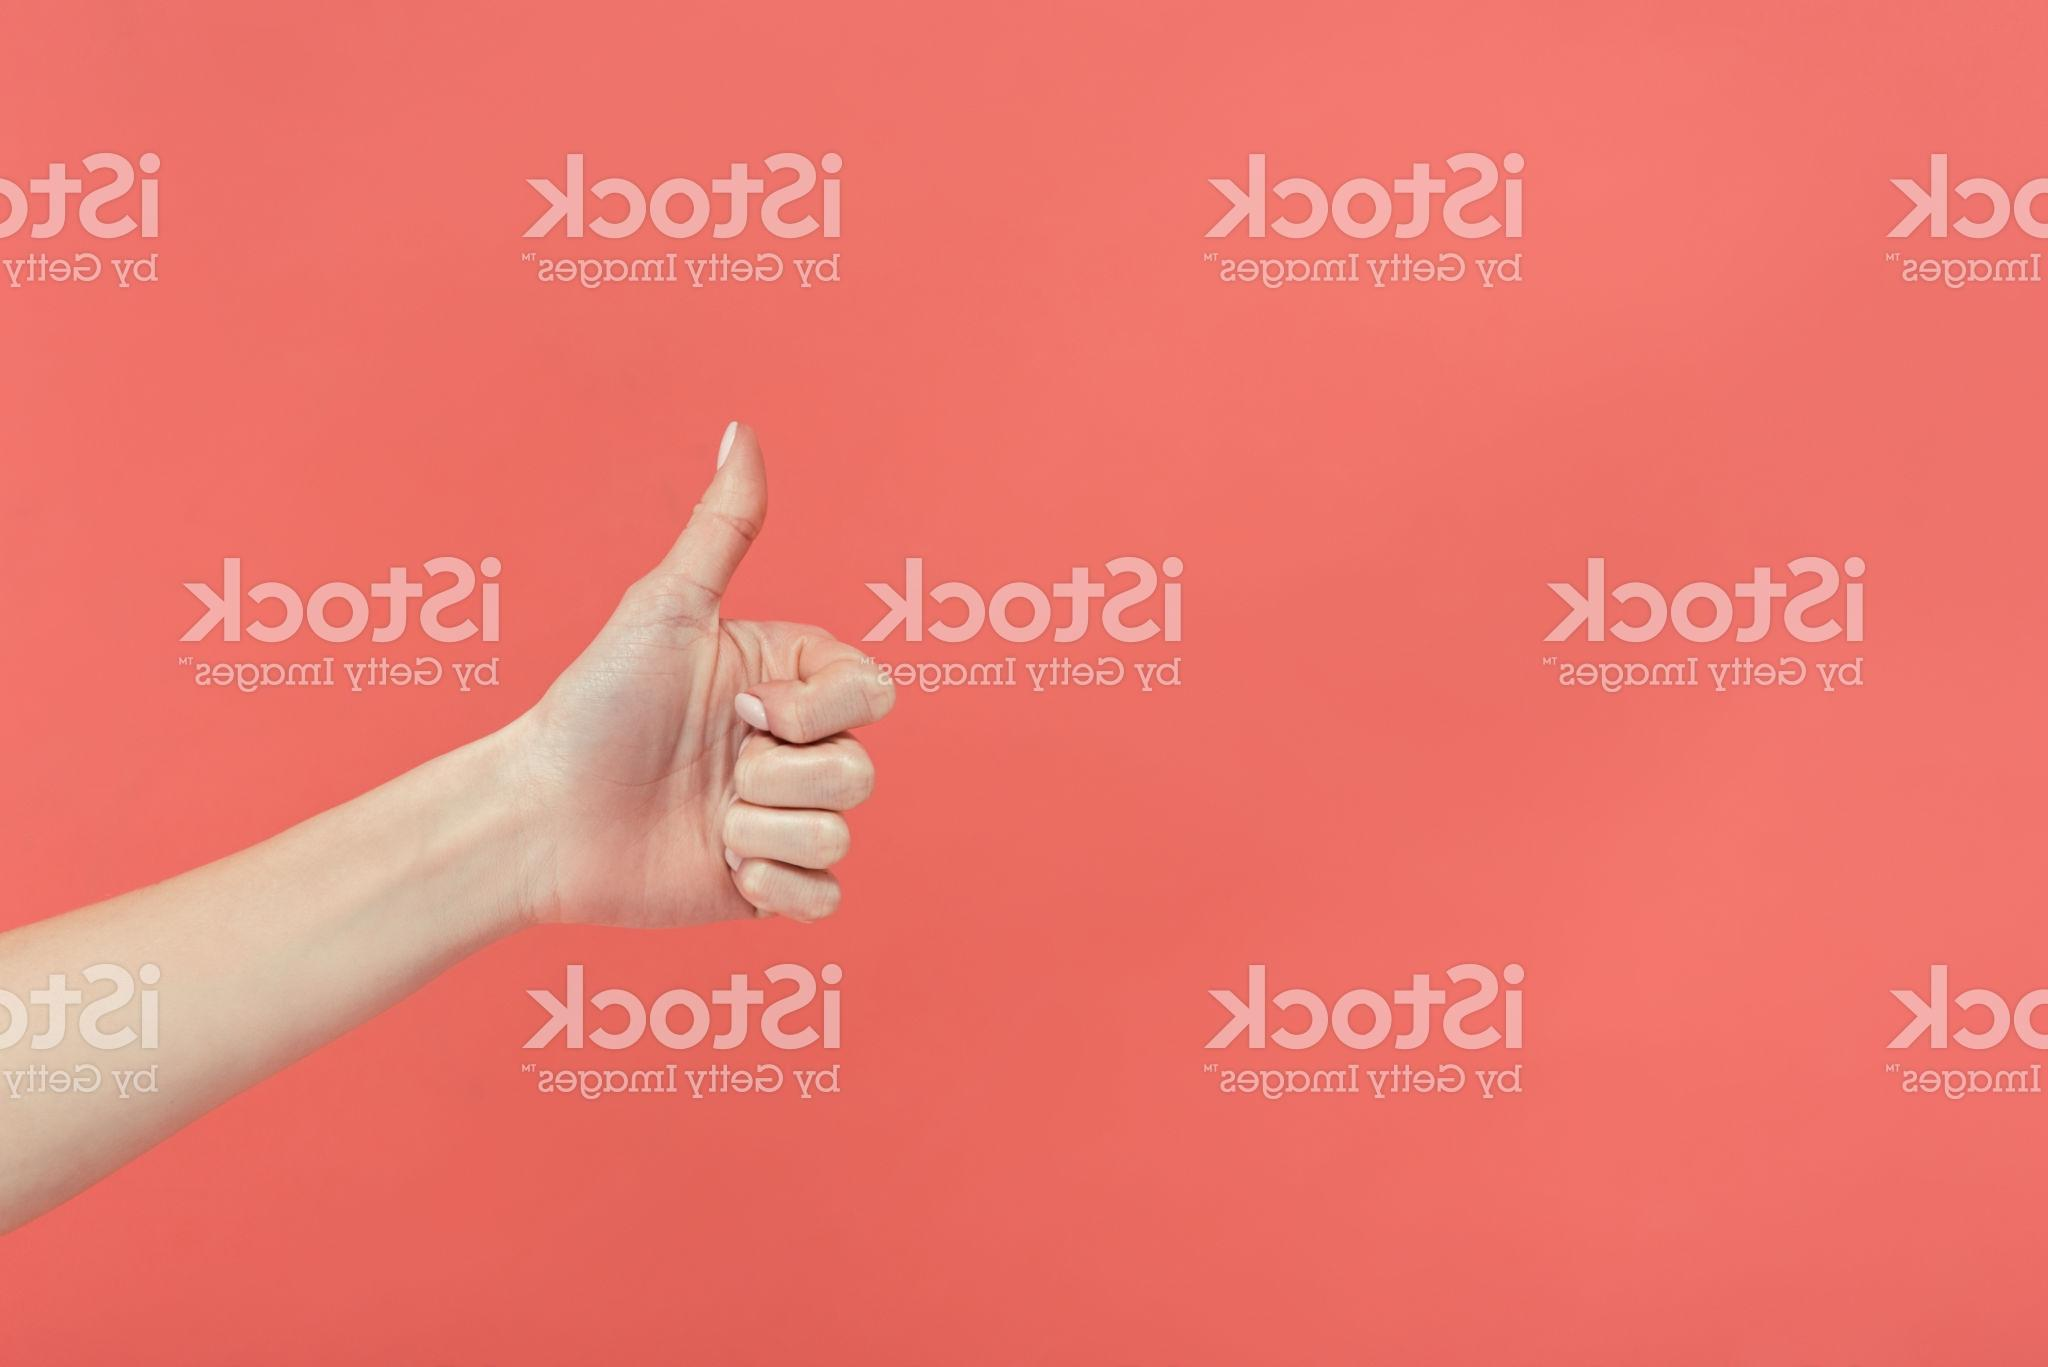thumbsup: (583, 418, 900, 934)
